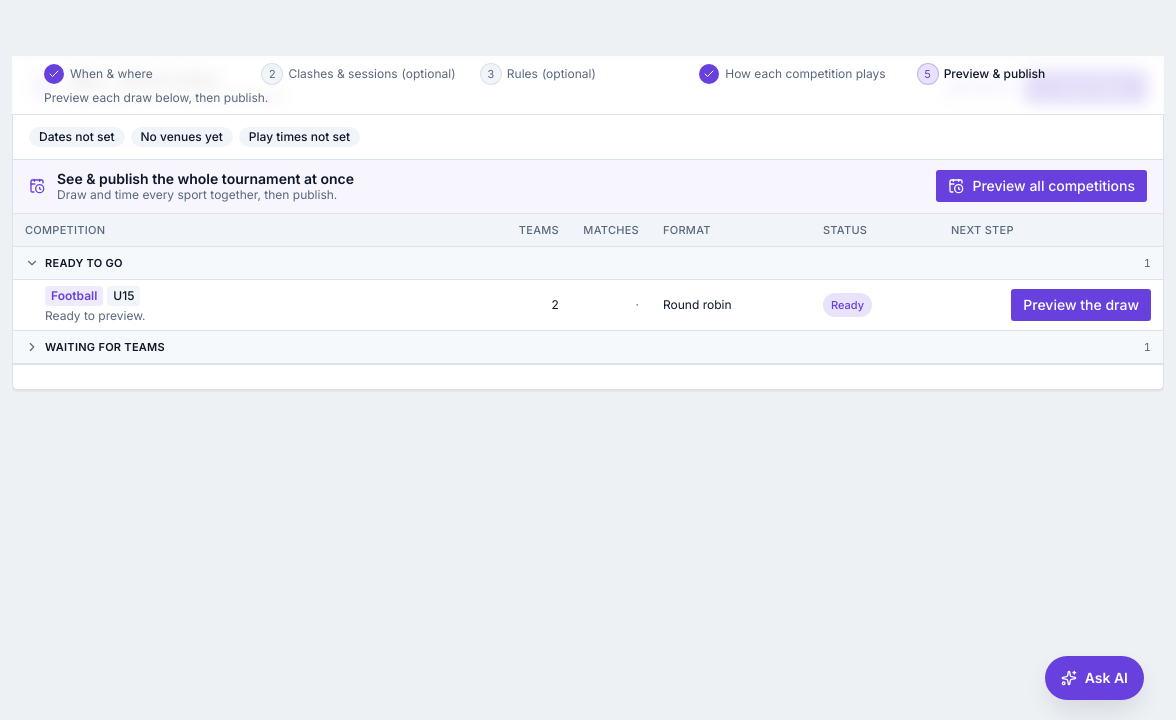
Test case: FixtureSetupHub › collapses the Waiting-for-teams section by default, showing only the count
Check: the 2nd text "1" is shown, box [1144, 337, 1151, 357]
Click the button with test id "section-needs_teams" at (105, 347), box [13, 331, 1163, 363]
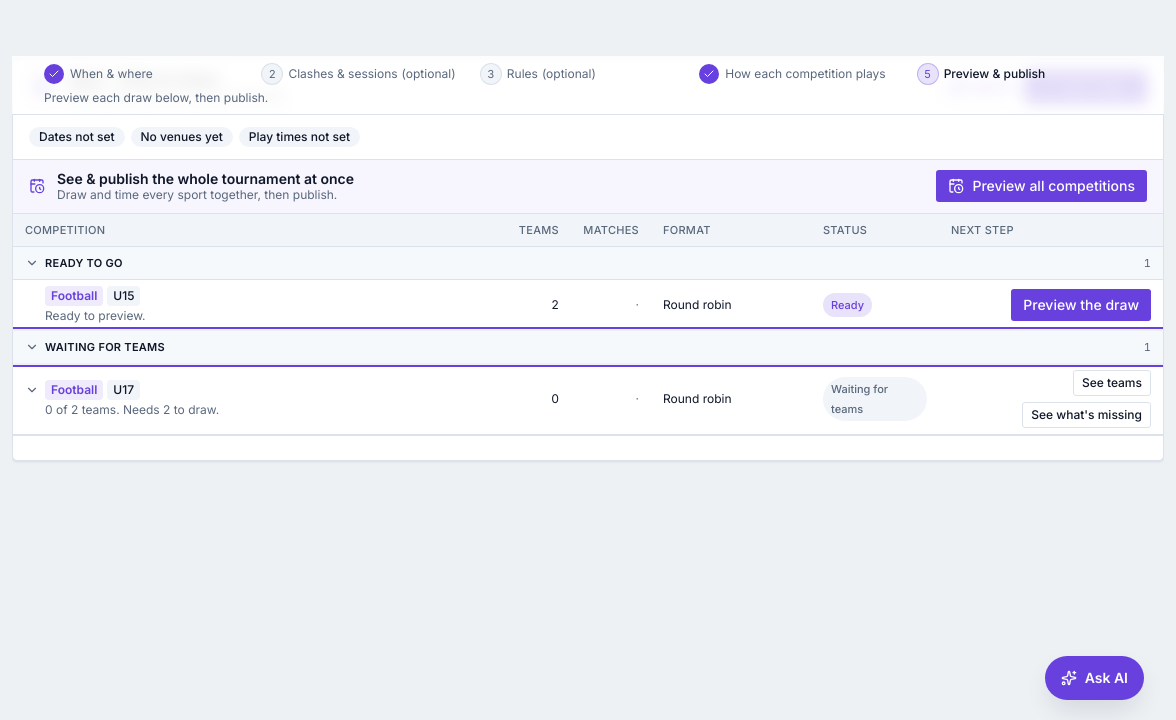
Check: the text "0 of 2 teams. Needs 2 to draw." is shown, box [45, 402, 219, 417]
